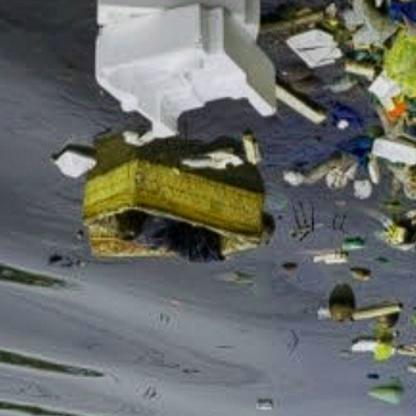Trash: (93, 1, 289, 135), (79, 171, 279, 261), (370, 30, 415, 107), (50, 141, 96, 193), (294, 24, 338, 74), (332, 135, 379, 160), (366, 138, 415, 161), (369, 382, 407, 404), (386, 2, 415, 28), (370, 339, 398, 365), (336, 233, 370, 254), (315, 249, 353, 266), (332, 113, 354, 139)
